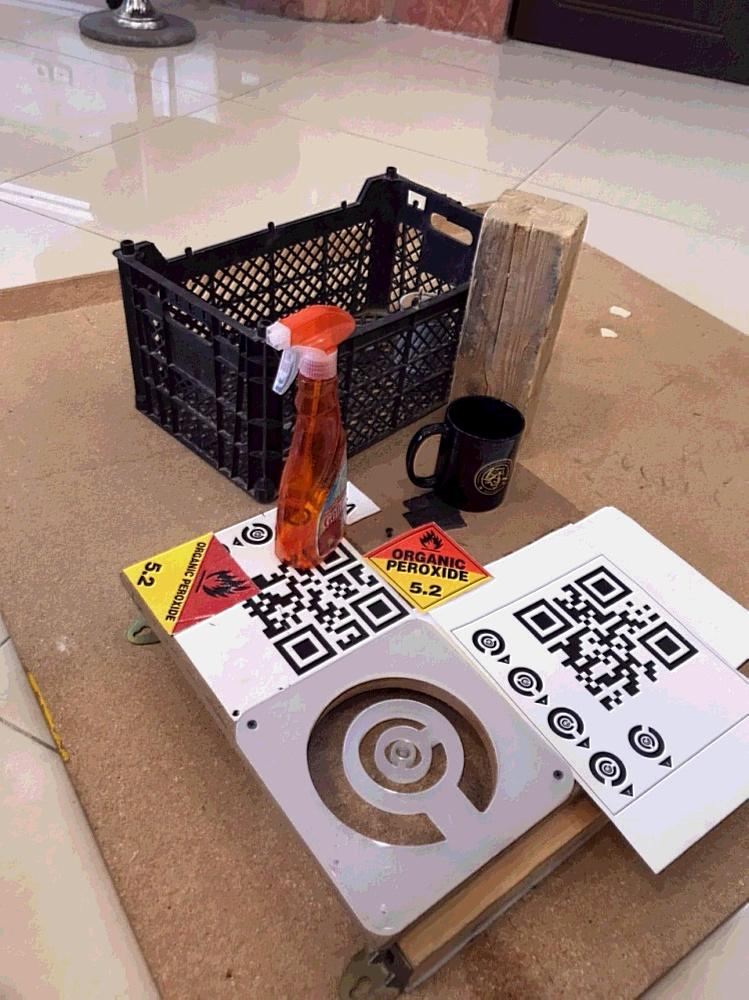organic-peroxide: (123, 529, 260, 638), (371, 521, 492, 609)
